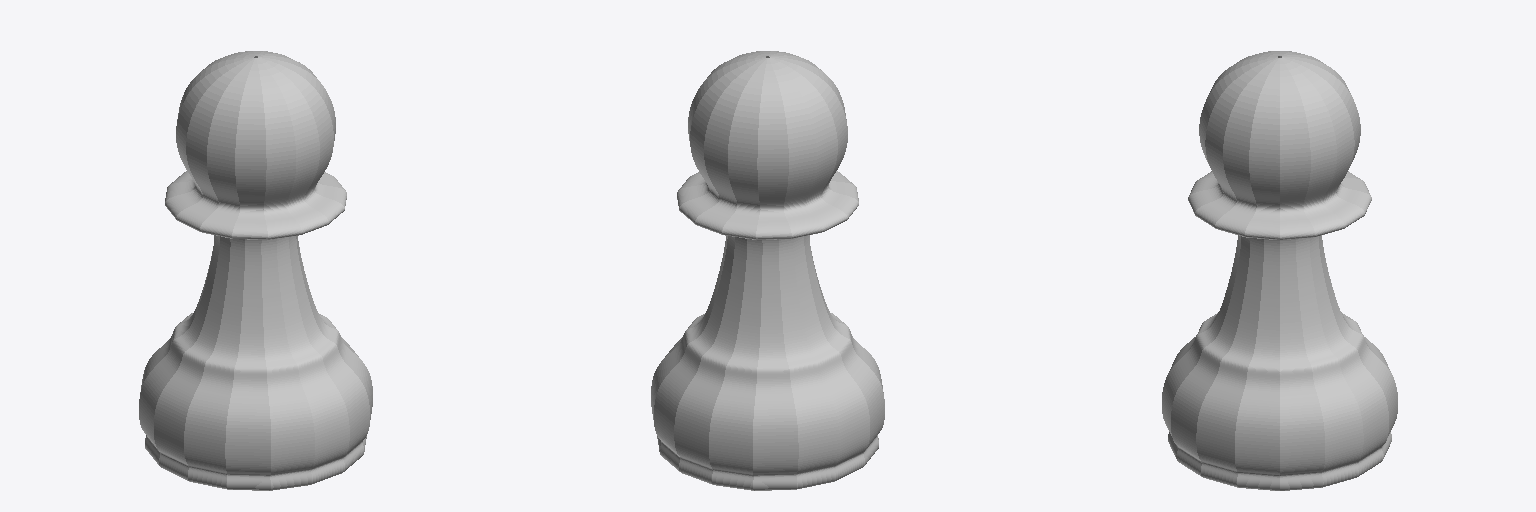
Rendered from Pawn.obj.
3 views of the same model, side by side, from view 1: azimuth 30°, elevation 25°; view 2: azimuth 150°, elevation 25°; view 3: azimuth 270°, elevation 25° (orthographic).
Size of the model in its own units: 1.24 by 2.3 by 1.24.